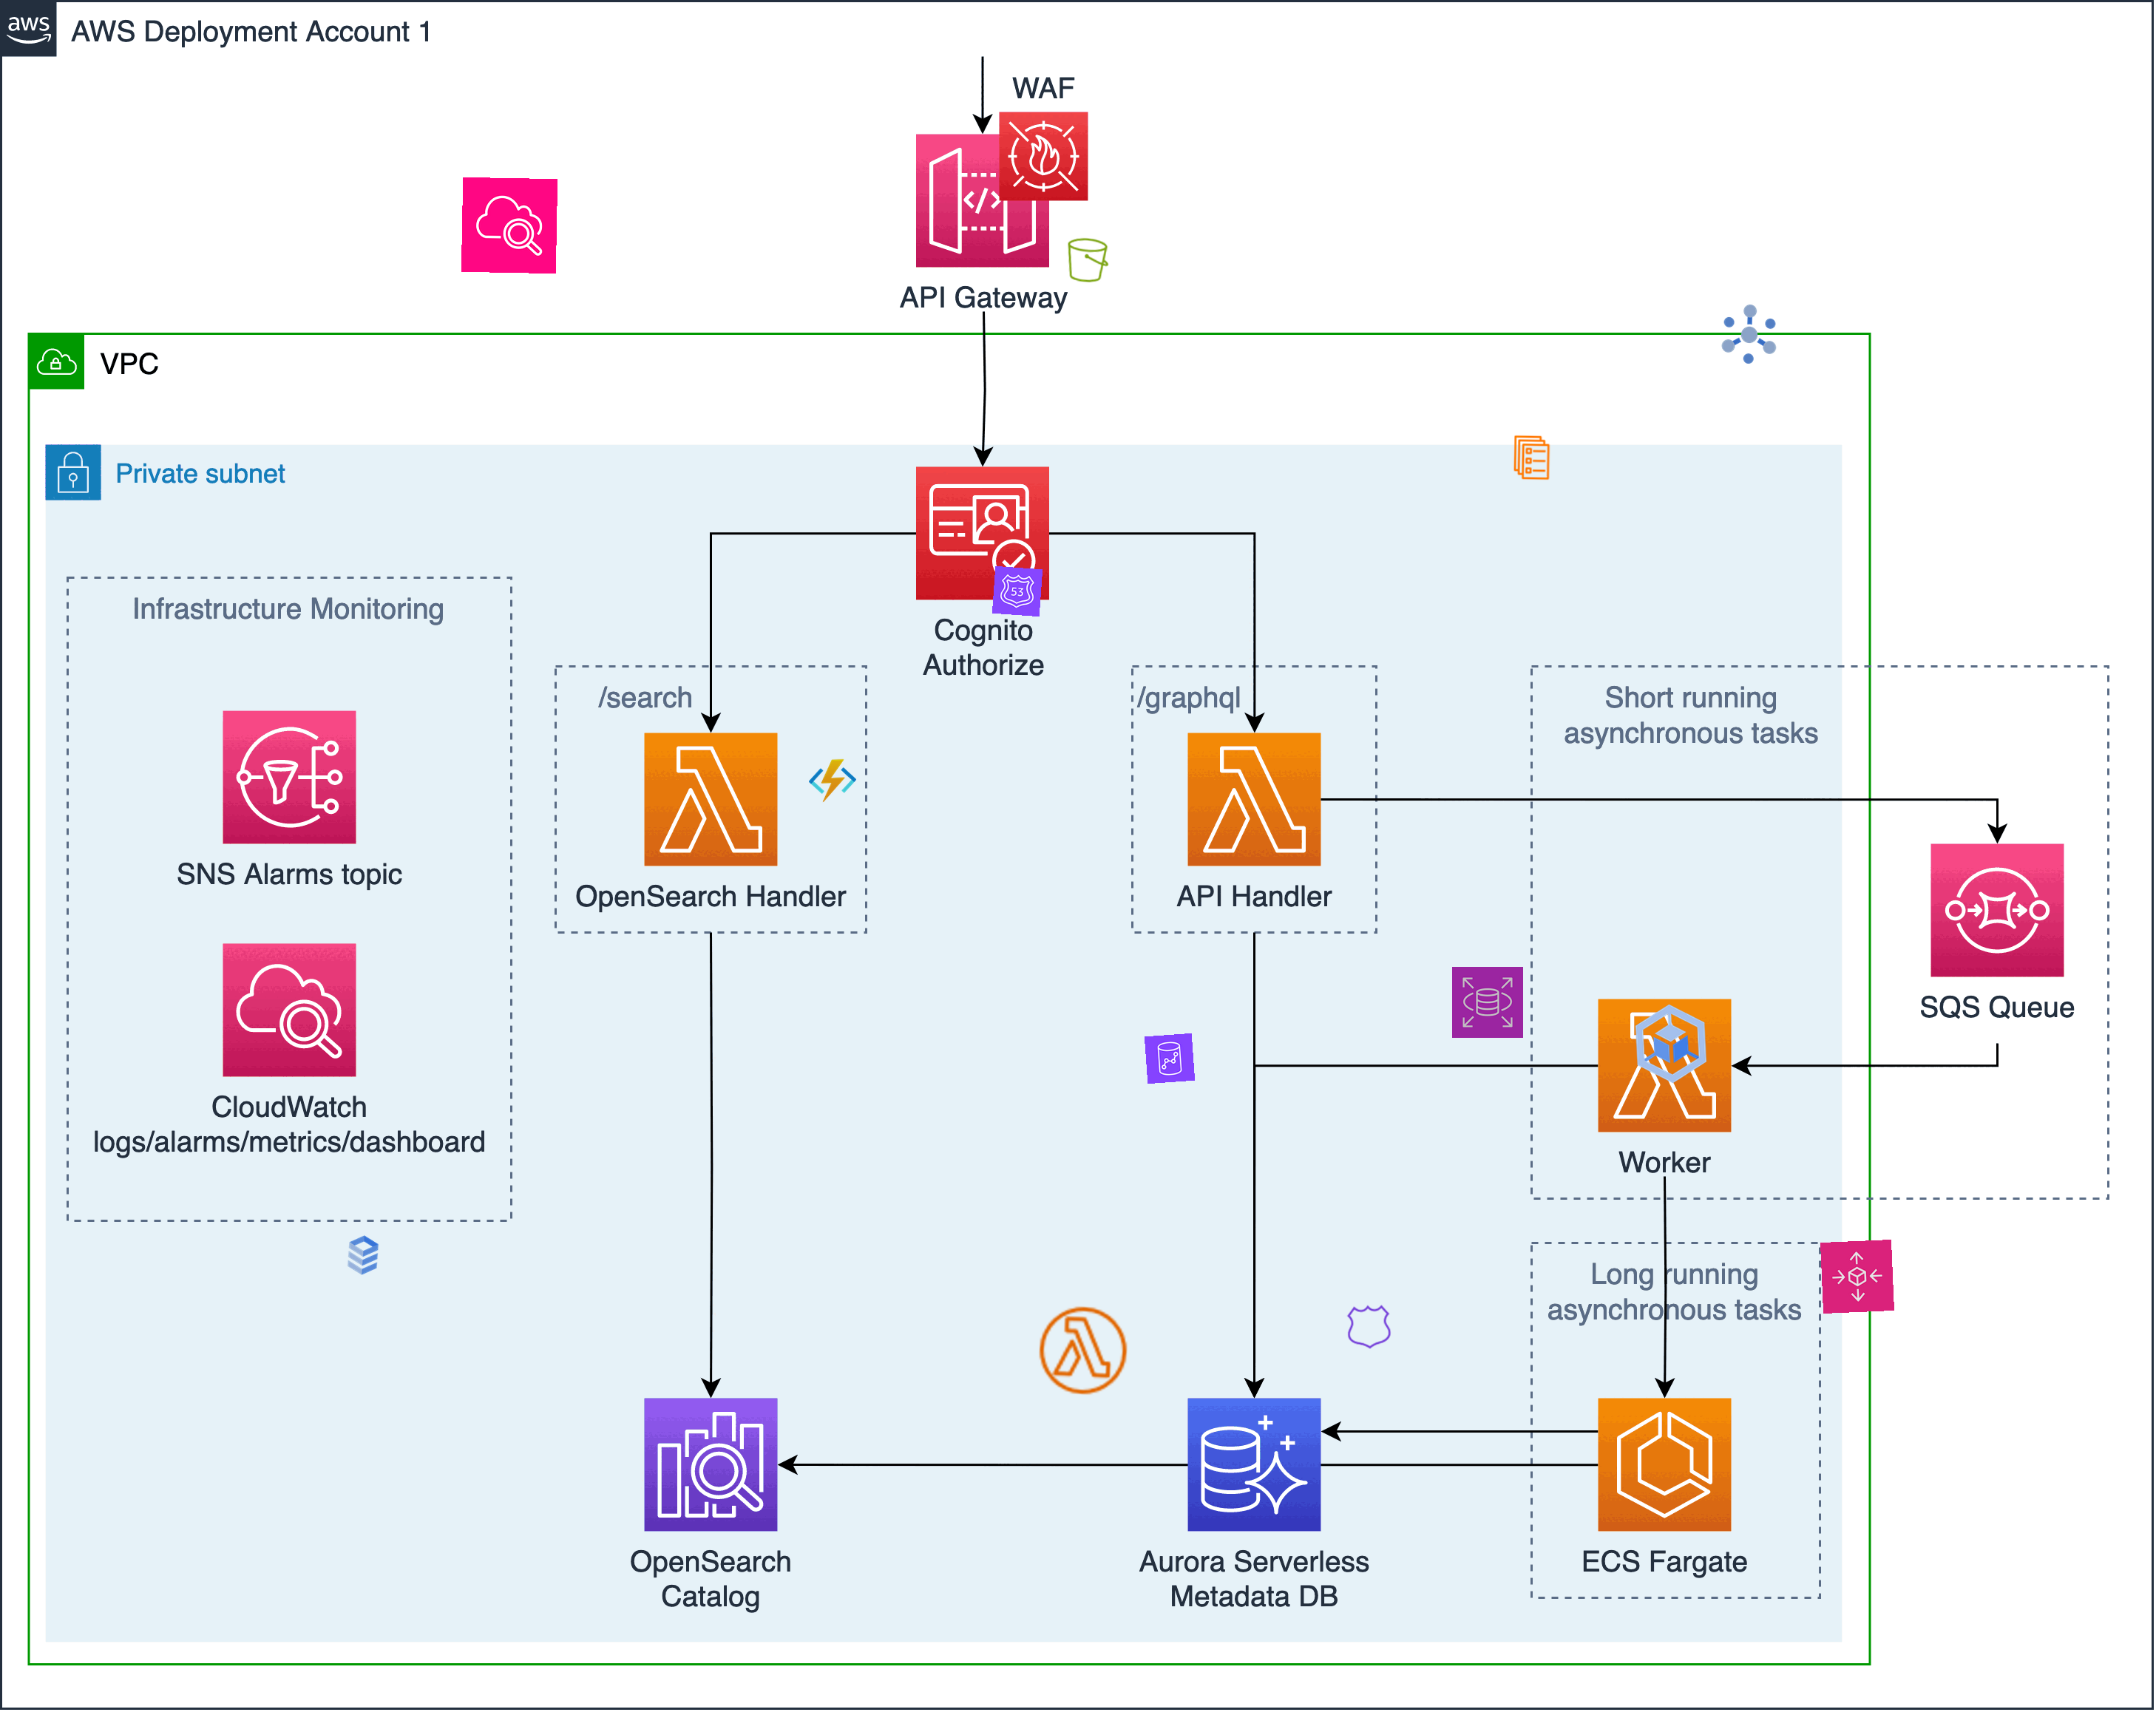aws_amazon_cloudwatch: (460, 177, 558, 275)
aws_amazon_rds: (1451, 965, 1524, 1039)
aws_amazon_redshift: (1144, 1033, 1195, 1084)
aws_amazon_route_53: (992, 565, 1043, 617)
aws_auto_scaling: (1820, 1238, 1895, 1315)
aws_elastic_container_service_service: (1507, 434, 1556, 483)
aws_lambda_lambda_function: (1034, 1301, 1132, 1401)
aws_route_53_hosted_zone: (1344, 1301, 1395, 1352)
aws_simple_storage_service_bucket: (1062, 234, 1113, 287)
azure_function_apps: (807, 755, 857, 806)
gcp_cloud_sql: (338, 1229, 389, 1282)
gcp_google_kubernetes_engine: (1620, 993, 1722, 1095)
gcp_pubsub: (1713, 297, 1787, 371)
